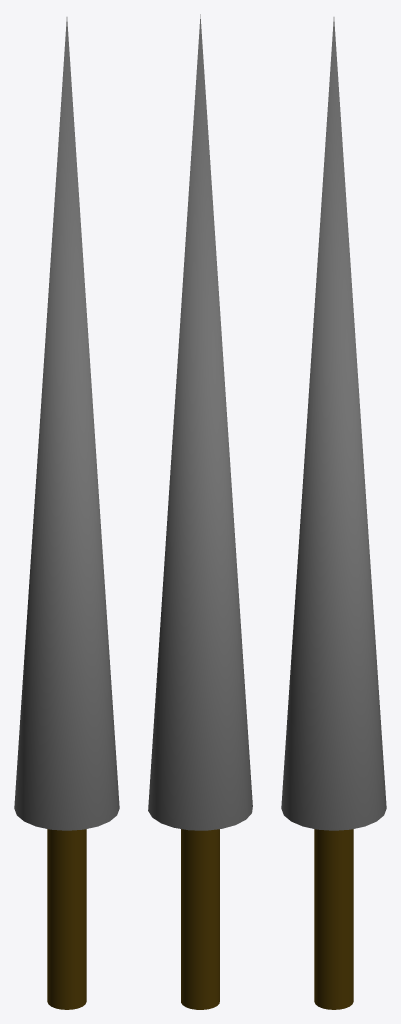
File: lance.fbx
3 renders of one model, left to right at view 1: azimuth 90°, elevation 25°; view 2: azimuth 150°, elevation 25°; view 3: azimuth 270°, elevation 25°, orthographic.
Visible parts, largest first — view 1: pCylinder2; view 2: pCylinder2; view 3: pCylinder2.
Boxes of the visible parts, left/top/right/bottom form: pCylinder2: left=14, top=17, right=119, bottom=1009; pCylinder2: left=148, top=14, right=252, bottom=1009; pCylinder2: left=281, top=17, right=386, bottom=1009.
Size of the model in its own units: 0.8469 by 8.76 by 0.8469.
